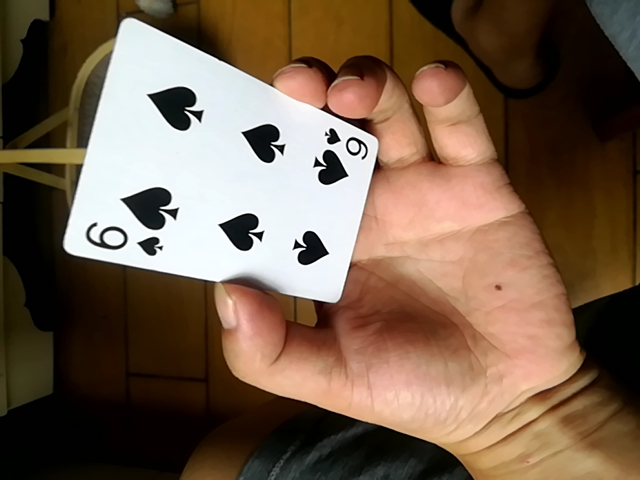ht 6: (67, 20, 379, 313)
